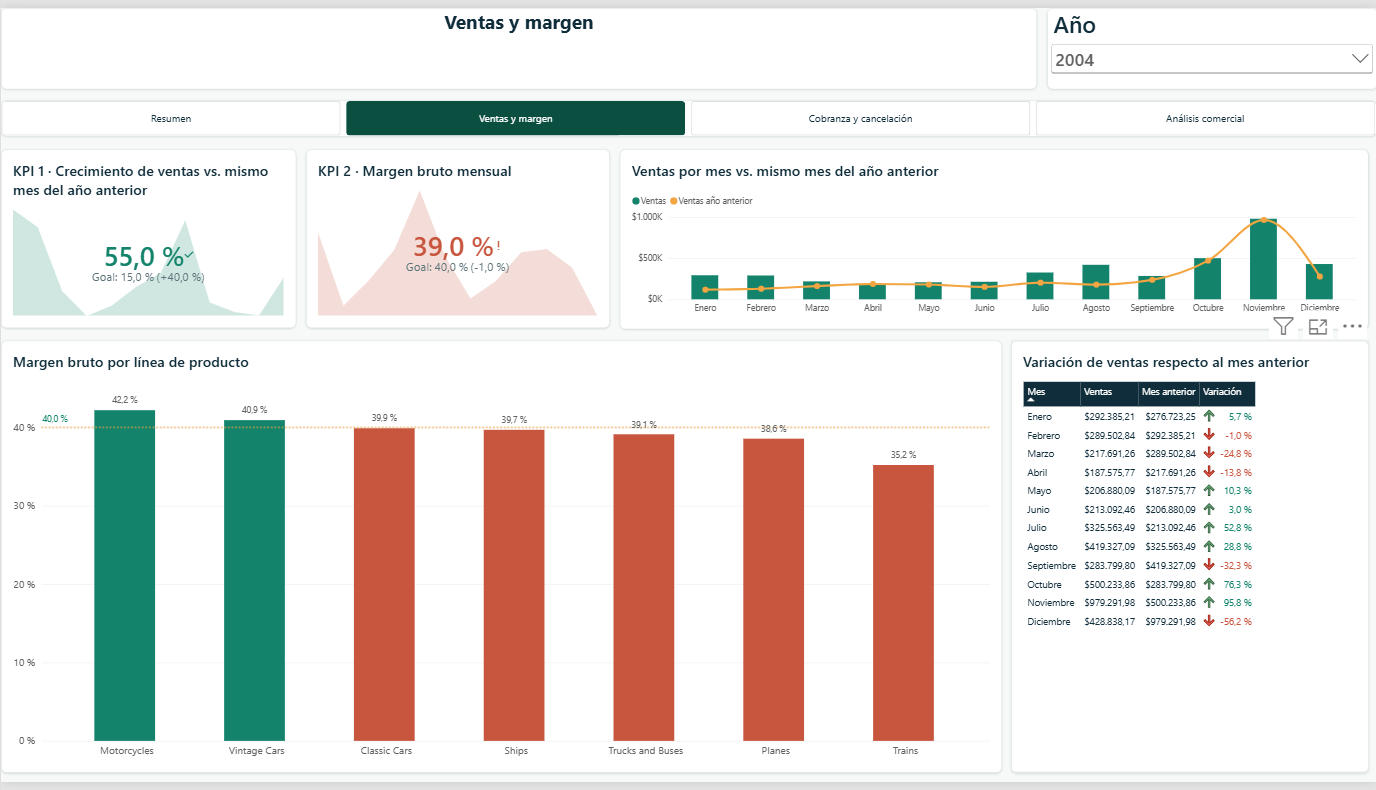

The dashboard page shown, as its layout file describes it:
{"tool":"powerbi","page":{"name":"Ventas y margen","canvas":[1920,1080],"ordinal":1},"visuals":[{"type":"textbox","box":[0,0,1445.9,113.4],"z":0},{"type":"kpi","title":"KPI 1 · Crecimiento de ventas vs. mismo mes del año anterior","fields":{"Goal":["Medidas.Meta crecimiento"],"Indicator":["Medidas.Crecimiento ventas %"],"TrendLine":["DIM_FECHA.NOMBRE_MES"]},"box":[0,197.1,411.6,249.4],"z":1000},{"type":"kpi","title":"KPI 2 · Margen bruto mensual","fields":{"Goal":["Medidas.Meta margen"],"Indicator":["Medidas.Margen %"],"TrendLine":["DIM_FECHA.NOMBRE_MES"]},"box":[425.6,197.1,423.8,249.4],"z":2000},{"type":"lineClusteredColumnComboChart","title":"Ventas por mes vs. mismo mes del año anterior","fields":{"Category":["DIM_FECHA.NOMBRE_MES"],"Y":["Medidas.Ventas"],"Y2":["Medidas.Ventas año anterior"]},"box":[863.4,197.1,1044.8,251.2],"z":3000},{"type":"clusteredColumnChart","title":"Margen bruto por línea de producto","fields":{"Category":["DIM_PRODUCTO.PRODUCTLINE"],"Y":["Medidas.Margen %"]},"box":[0,464,1397.1,603.5],"z":4000},{"type":"tableEx","title":"Variación de ventas respecto al mes anterior","fields":{"Values":["DIM_FECHA.NOMBRE_MES","Medidas.Ventas","Medidas.Ventas mes anterior","Medidas.Variación mensual %"]},"box":[1409.3,464,498.8,603.5],"z":5000},{"type":"pageNavigator","box":[0,129.1,1920.4,50.6],"z":6000},{"type":"slicer","fields":{"Values":["DIM_FECHA.ANIO"]},"box":[1459.5,0,460.5,113.4],"z":7000}]}

Visuals, with their boxes in screenshot pixels (x1, y1, x2, y2), scaled from the page's 1920x1080 canvas onto the 1376x790 screenshot:
textbox: [0,0,1036,83]
"KPI 1 · Crecimiento de ventas vs. mismo mes del año anterior" kpi: [0,144,295,327]
"KPI 2 · Margen bruto mensual" kpi: [305,144,609,327]
"Ventas por mes vs. mismo mes del año anterior" lineClusteredColumnComboChart: [619,144,1368,328]
"Margen bruto por línea de producto" clusteredColumnChart: [0,339,1001,781]
"Variación de ventas respecto al mes anterior" tableEx: [1010,339,1367,781]
pageNavigator: [0,94,1375,131]
slicer - DIM_FECHA.ANIO: [1046,0,1375,83]
